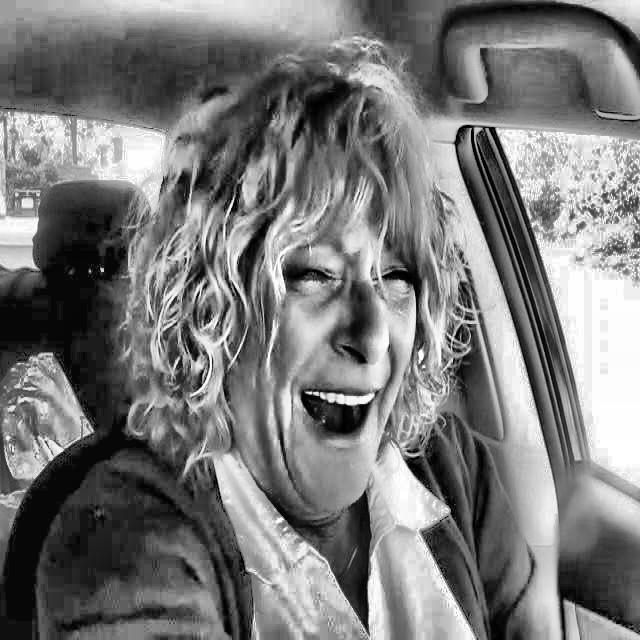closed_eyes: (267, 249, 342, 310), (363, 253, 427, 299)
open_mouth: (268, 367, 396, 471)
